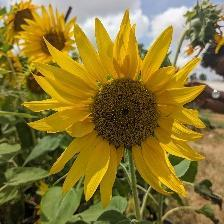sunflower: (42, 22, 201, 200)
